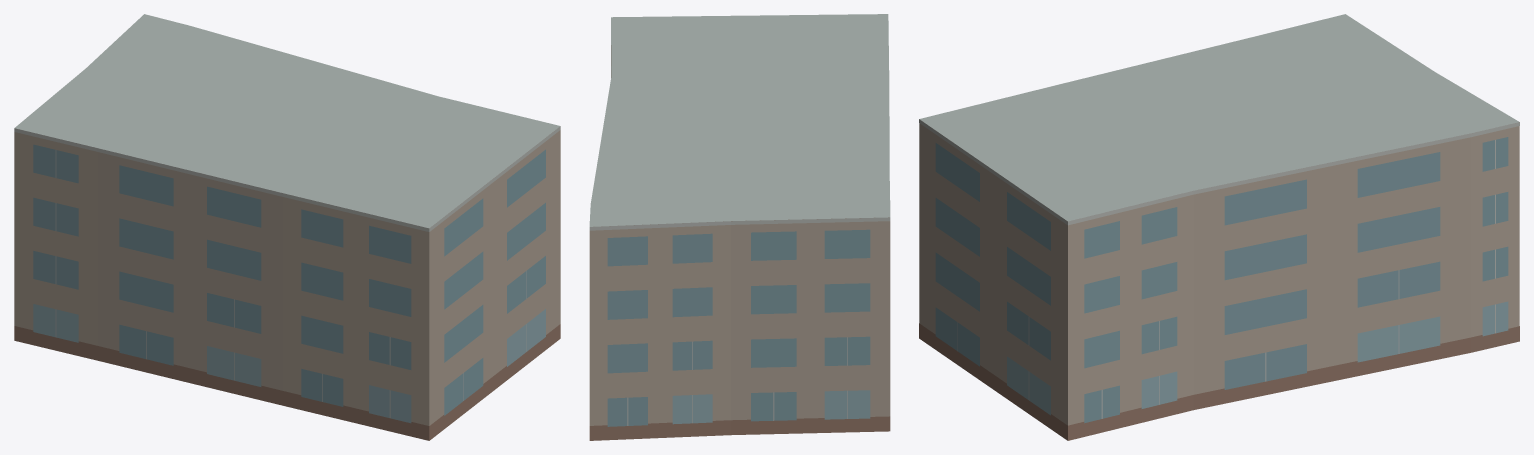
Rendered from survey-upis-32623284.glb.
The picture shows the model from 3 angles, left to right: view 1: azimuth 30°, elevation 25°; view 2: azimuth 150°, elevation 25°; view 3: azimuth 270°, elevation 25°; orthographic projection. The views are drawn at different scales.
Parts seen in each view (by area): view 1: survey-upis-32623284.tmp; view 2: survey-upis-32623284.tmp; view 3: survey-upis-32623284.tmp.
Part boxes in pixels (bbox=[...]): survey-upis-32623284.tmp: bbox=[14, 14, 560, 440]; survey-upis-32623284.tmp: bbox=[589, 14, 890, 440]; survey-upis-32623284.tmp: bbox=[919, 14, 1519, 440].
Bounding box in the file's own units: 28 × 13.8 × 34.25.
